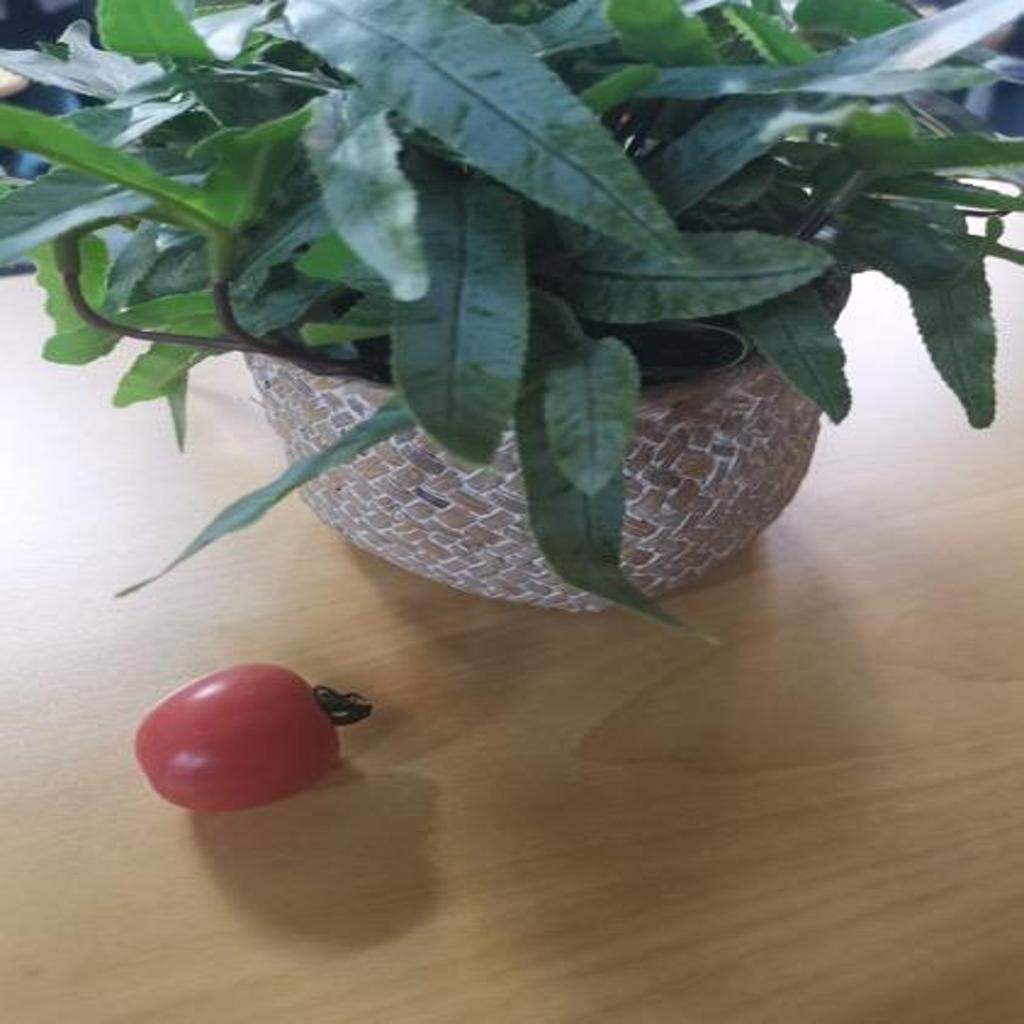tomato: (123, 664, 338, 811)
